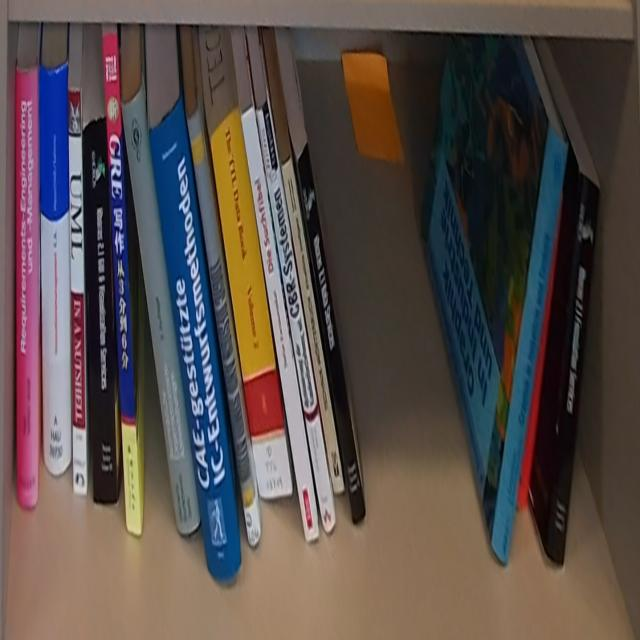Book Spine: (148, 99, 243, 590), (121, 81, 201, 539), (240, 108, 322, 547), (255, 100, 337, 532), (492, 119, 570, 564), (186, 108, 263, 549), (209, 107, 293, 497), (295, 142, 366, 525), (544, 173, 602, 570), (280, 159, 345, 495), (103, 35, 143, 540), (37, 62, 74, 477), (81, 116, 118, 506), (16, 65, 38, 515), (68, 89, 87, 496)
